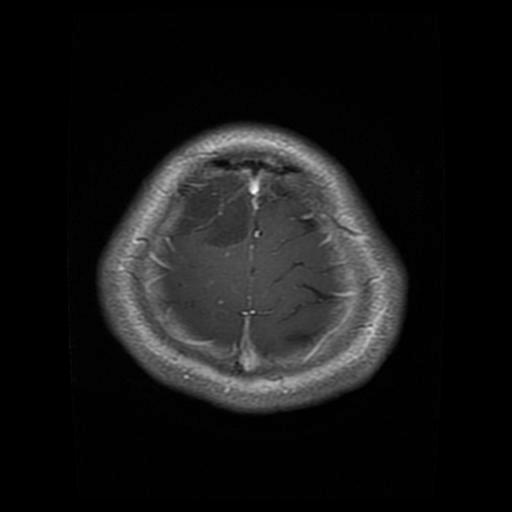Tumour-Glioma: (199, 185, 251, 251)
